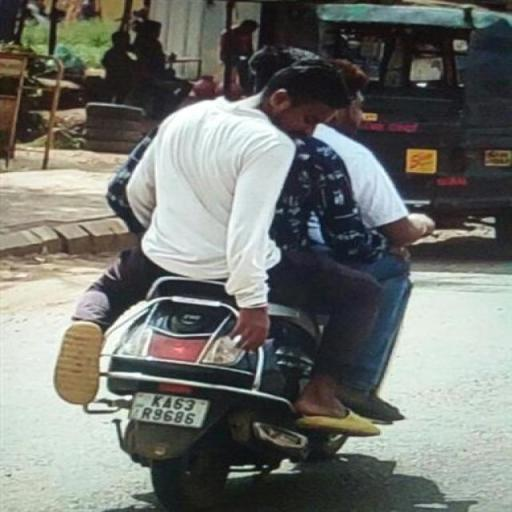tripple riding: (94, 28, 444, 300)
